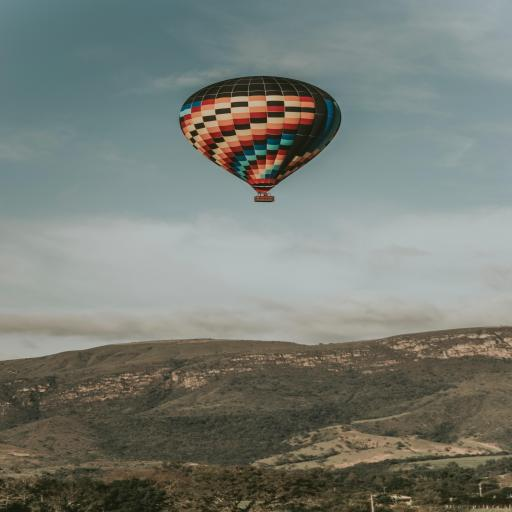hot air ballon: (179, 76, 343, 202)
